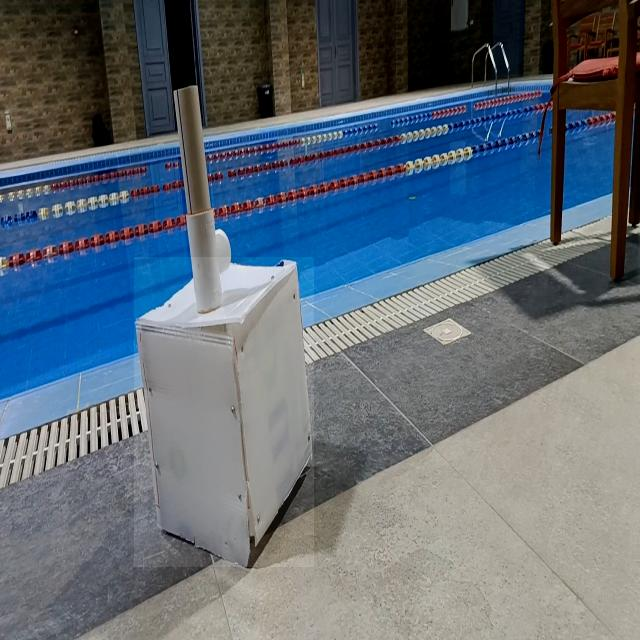Cube: (134, 257, 314, 567)
